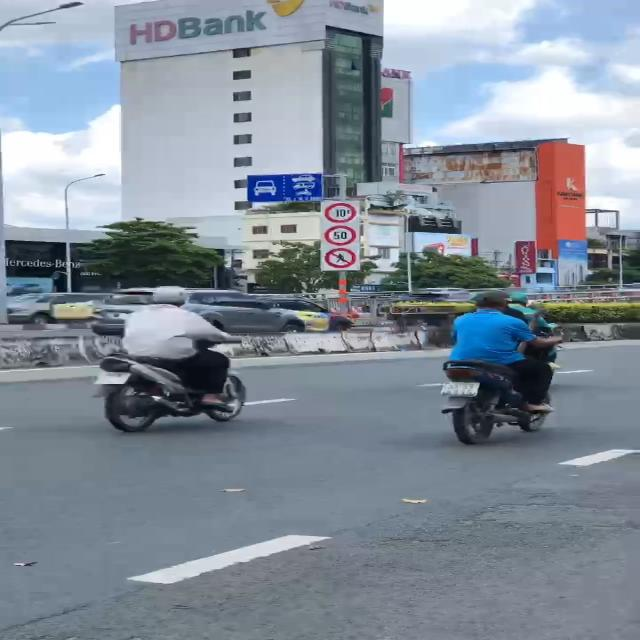Bien bao cam nguoi di bo: (322, 247, 356, 270)
Bien bao toc do toi da cho phep: (321, 224, 364, 246)
